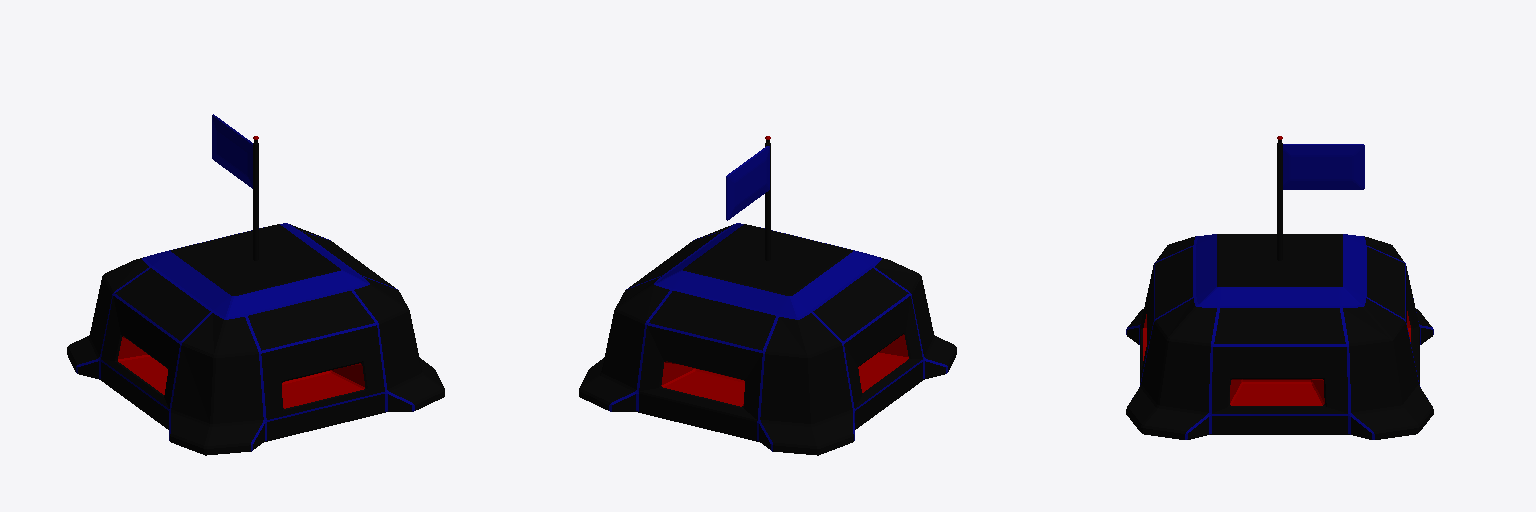
File: RistFort4.obj
The picture shows the model from 3 angles: view 1: azimuth 30°, elevation 25°; view 2: azimuth 150°, elevation 25°; view 3: azimuth 270°, elevation 25°; orthographic projection.
Parts seen in each view (by area): view 1: t, Object001, Object003, Object, Object004, Box002, Cylinder001; view 2: t, Object001, Object003, Object, Object004, Box002; view 3: t, Object001, Object003, Box002, Object004, Object, Cylinder001.
Boxes of the visible parts, box(x1,y1,x2,y2) form: t: box(78, 224, 411, 449); Object001: box(67, 224, 444, 455); Object003: box(145, 224, 366, 317); Object: box(118, 336, 364, 408); Object004: box(76, 223, 414, 451); Box002: box(212, 114, 252, 188); Cylinder001: box(253, 140, 258, 260); t: box(612, 224, 945, 449); Object001: box(579, 224, 956, 455); Object003: box(657, 224, 878, 317); Object: box(661, 334, 908, 406); Object004: box(609, 223, 947, 451); Box002: box(726, 146, 769, 220); t: box(1127, 234, 1432, 439); Object001: box(1126, 236, 1433, 439); Object003: box(1196, 234, 1363, 305); Box002: box(1283, 144, 1364, 189); Object004: box(1126, 235, 1433, 439); Object: box(1143, 311, 1410, 405); Cylinder001: box(1277, 140, 1282, 260).
Bounding box in the file's own units: 13.18 × 11.4 × 13.18.